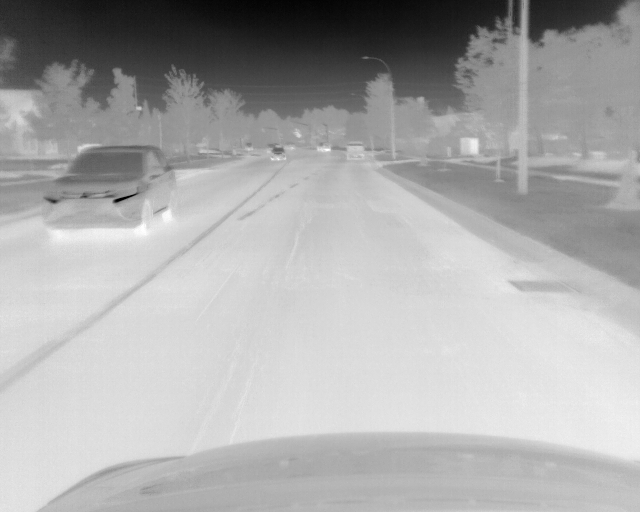car: (39, 144, 180, 235), (264, 142, 286, 161), (346, 141, 366, 160), (316, 142, 331, 152), (243, 141, 253, 151)
